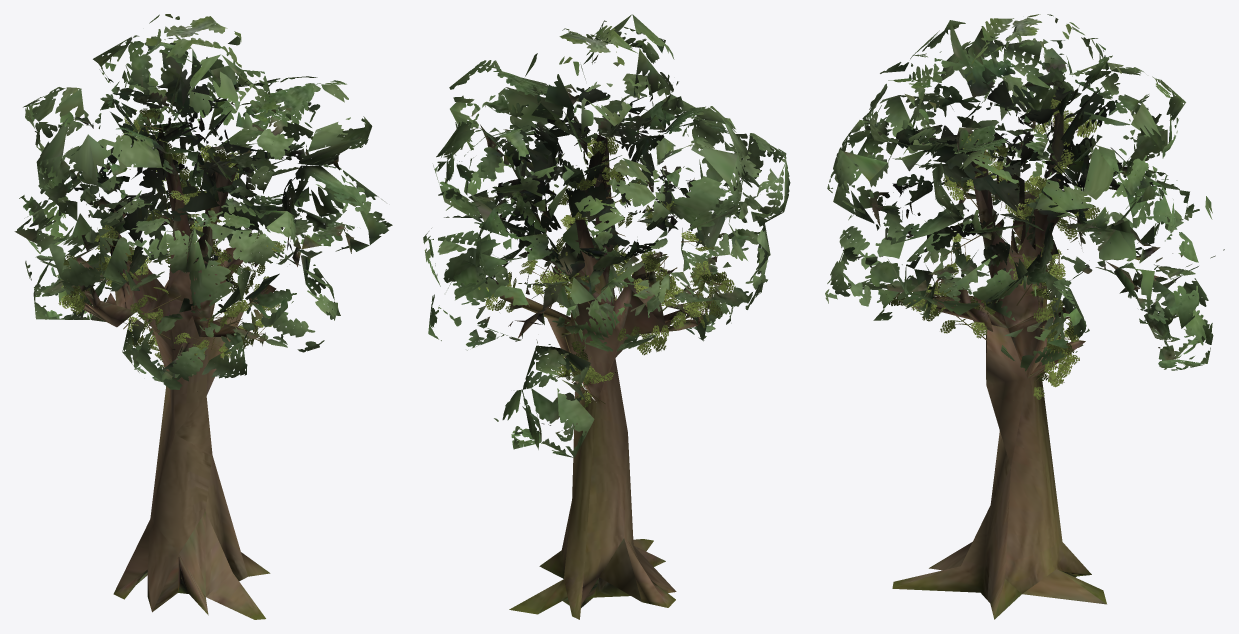
The model's file is tree-3106-far.glb.
3 renders of one model, left to right at view 1: azimuth 30°, elevation 25°; view 2: azimuth 150°, elevation 25°; view 3: azimuth 270°, elevation 25°, orthographic. The views are drawn at different scales.
Visible parts, largest first — view 1: Foliage, Wood; view 2: Foliage, Wood; view 3: Foliage, Wood.
Part boxes in pixels (left/top/right/bottom): Foliage: left=14, top=14, right=392, bottom=391; Wood: left=70, top=115, right=334, bottom=619; Foliage: left=423, top=14, right=790, bottom=457; Wood: left=480, top=124, right=713, bottom=619; Foliage: left=825, top=14, right=1224, bottom=400; Wood: left=892, top=101, right=1150, bottom=619.
Bounding box in the file's own units: 7.31 × 11.78 × 7.57.
Materials: 2 (2 with a texture image).
